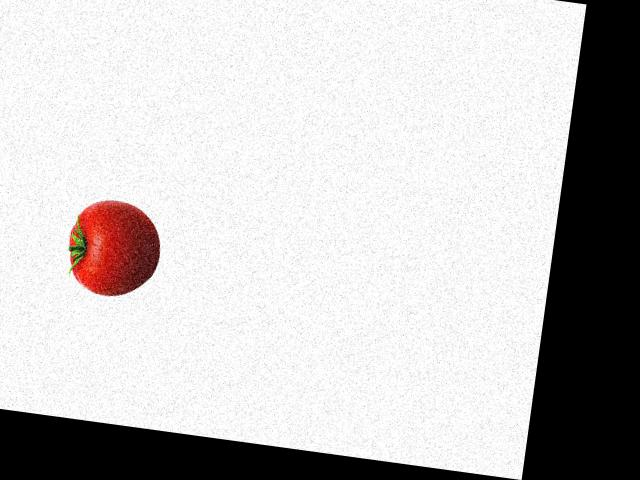tomato: (62, 206, 164, 301)
